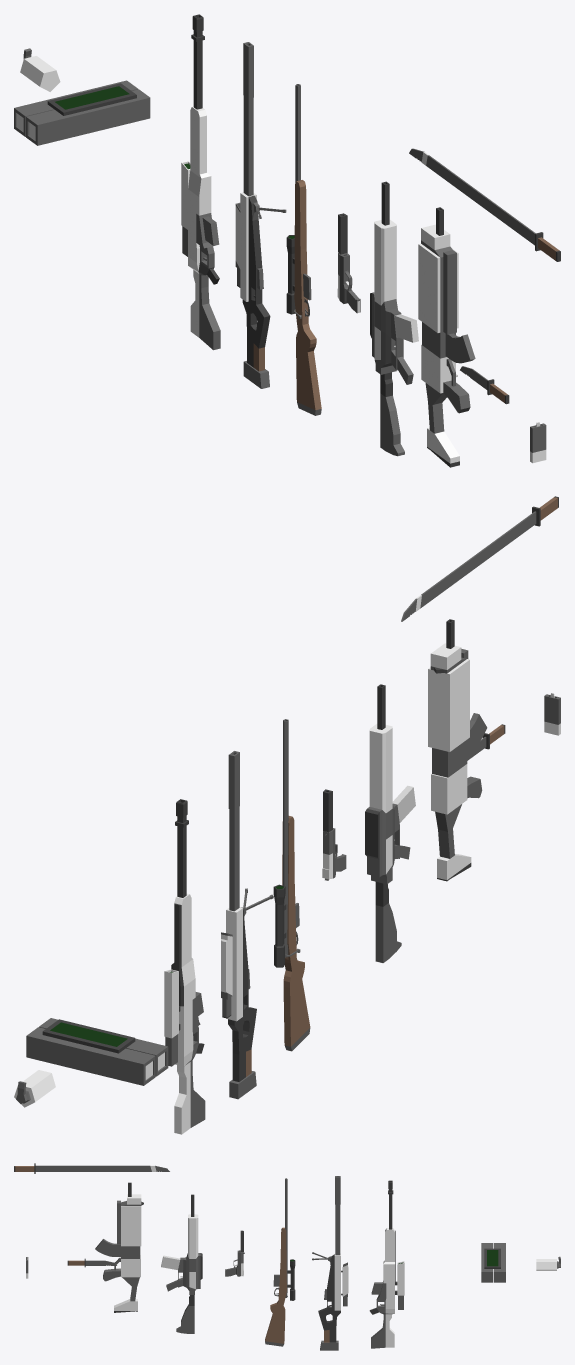
Rendered from Weapons.fbx.
The picture shows the model from 3 angles, top to bottom: view 1: azimuth 30°, elevation 25°; view 2: azimuth 150°, elevation 25°; view 3: azimuth 270°, elevation 25°; orthographic projection. The views are drawn at different scales.
Visible parts, largest first — view 1: Machine Gun 2, Sniper Rifle 2, Machine Gun, C4, Sniper Rifle 1, Sniper Rifle 3, Katana, Grenade, Pistol, Machine Gun Clip 2, Scope 2, Hidden Blade (+2 smaller); view 2: Machine Gun 2, Machine Gun, C4, Sniper Rifle 2, Sniper Rifle 1, Sniper Rifle 3, Katana, Scope 2, Scope 1, Grenade, Scope 3, Pistol; view 3: Machine Gun 2, Sniper Rifle 2, Machine Gun, Sniper Rifle 1, Sniper Rifle 3, Katana, C4, Scope 2, Machine Gun Clip 2, Pistol, Grenade, Knife (+1 smaller).
Part boxes in pixels (x1,y1,x2,y2): Machine Gun 2: [418, 207, 470, 467]; Sniper Rifle 2: [188, 14, 220, 350]; Machine Gun: [370, 181, 413, 456]; C4: [14, 80, 150, 145]; Sniper Rifle 1: [240, 42, 270, 388]; Sniper Rifle 3: [294, 84, 321, 415]; Katana: [409, 148, 560, 261]; Grenade: [20, 48, 60, 91]; Pistol: [337, 253, 360, 313]; Machine Gun Clip 2: [445, 333, 475, 363]; Scope 2: [181, 160, 190, 256]; Hidden Blade: [530, 423, 546, 463]; Machine Gun 2: [428, 619, 482, 881]; Machine Gun: [365, 684, 410, 962]; C4: [26, 1018, 168, 1085]; Sniper Rifle 2: [171, 799, 205, 1134]; Sniper Rifle 1: [226, 751, 256, 1099]; Sniper Rifle 3: [282, 719, 310, 1051]; Katana: [401, 496, 558, 621]; Scope 2: [164, 969, 180, 1066]; Scope 1: [221, 932, 232, 1018]; Grenade: [14, 1070, 55, 1107]; Scope 3: [273, 884, 286, 967]; Pistol: [322, 828, 346, 880]; Machine Gun 2: [103, 1182, 143, 1312]; Sniper Rifle 2: [369, 1180, 395, 1348]; Machine Gun: [166, 1194, 202, 1333]; Sniper Rifle 1: [318, 1176, 340, 1350]; Sniper Rifle 3: [265, 1178, 287, 1346]; Katana: [14, 1163, 169, 1173]; C4: [481, 1243, 505, 1282]; Scope 2: [395, 1261, 404, 1309]; Machine Gun Clip 2: [95, 1239, 120, 1256]; Pistol: [225, 1250, 244, 1276]; Grenade: [536, 1256, 560, 1270]; Knife: [67, 1258, 116, 1267].
Bounding box in the file's own units: 131 × 393 × 1053.
